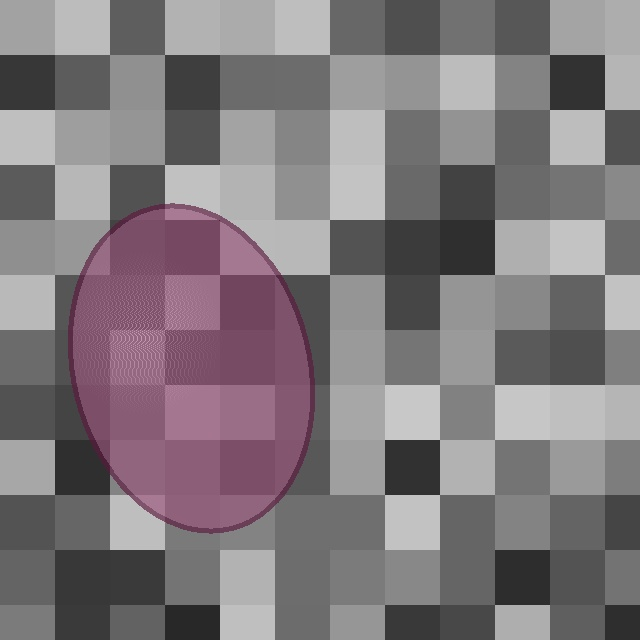lens: (70, 206, 312, 530)
